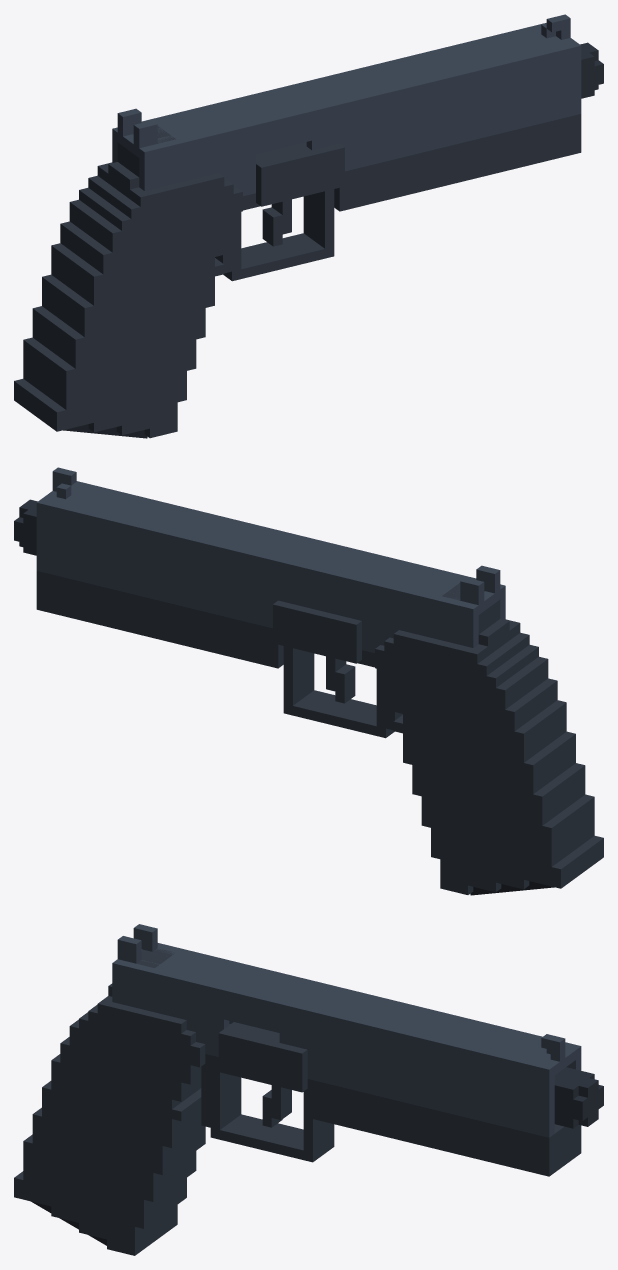
Rendered from pistol_service.glb.
The picture shows the model from 3 angles, top to bottom: view 1: azimuth 30°, elevation 25°; view 2: azimuth 150°, elevation 25°; view 3: azimuth 330°, elevation 25°; orthographic projection.
Visible parts, largest first — view 1: frame:frame, slide:slide, barrel:barrel; view 2: frame:frame, slide:slide, barrel:barrel; view 3: frame:frame, slide:slide, barrel:barrel.
Part boxes in pixels (left/top/right/bottom): frame:frame: left=14, top=114, right=581, bottom=438; slide:slide: left=112, top=14, right=581, bottom=196; barrel:barrel: left=580, top=42, right=603, bottom=98; frame:frame: left=36, top=571, right=603, bottom=894; slide:slide: left=36, top=467, right=505, bottom=653; barrel:barrel: left=14, top=499, right=37, bottom=555; frame:frame: left=14, top=948, right=581, bottom=1255; slide:slide: left=112, top=924, right=581, bottom=1137; barrel:barrel: left=554, top=1067, right=603, bottom=1128.
Bounding box in the file's own units: 0.24 × 0.126 × 0.032.
